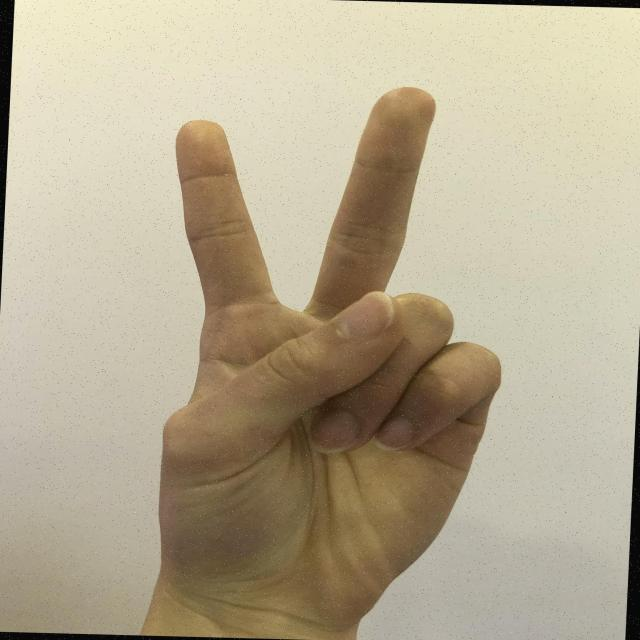V: (132, 69, 538, 637)
